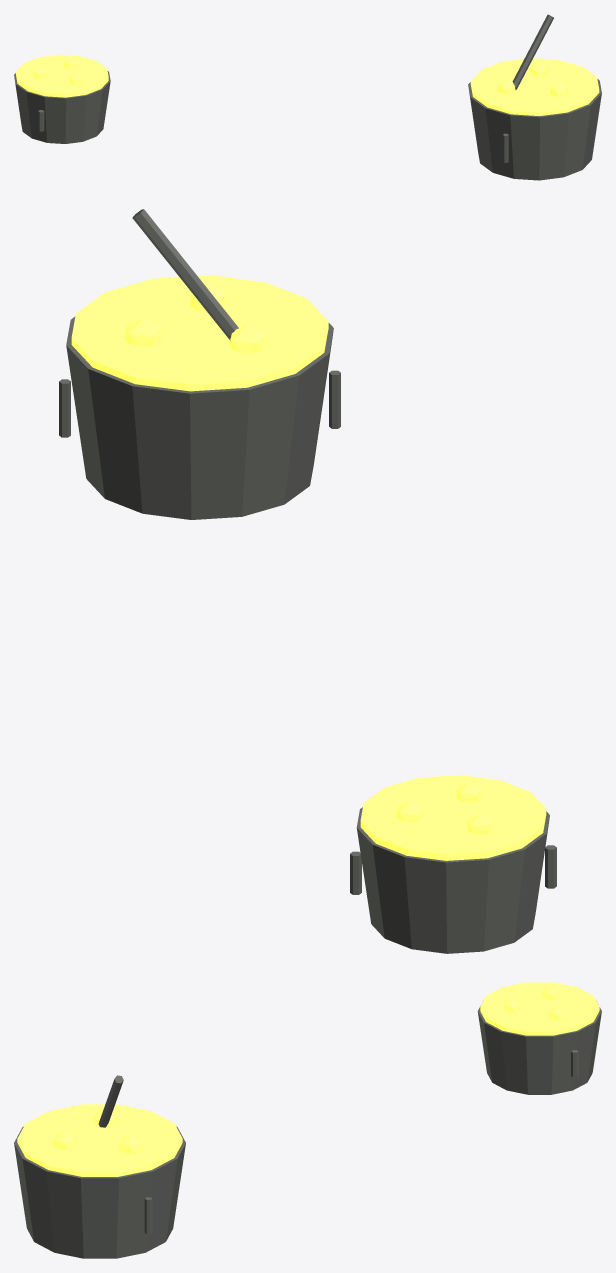
File: corrode.glb
3 views of the same model, one above another, from view 1: azimuth 30°, elevation 25°; view 2: azimuth 150°, elevation 25°; view 3: azimuth 270°, elevation 25° (orthographic). The views are drawn at different scales.
Visible parts, largest first — view 1: corrode_vats; view 2: corrode_vats; view 3: corrode_vats.
Boxes of the visible parts, box(x1,y1,x2,y2) form: corrode_vats: box(14, 14, 601, 180); corrode_vats: box(59, 209, 556, 953); corrode_vats: box(14, 982, 601, 1258).
Bounding box in the file's own units: 0.6111 × 0.2271 × 0.615.
